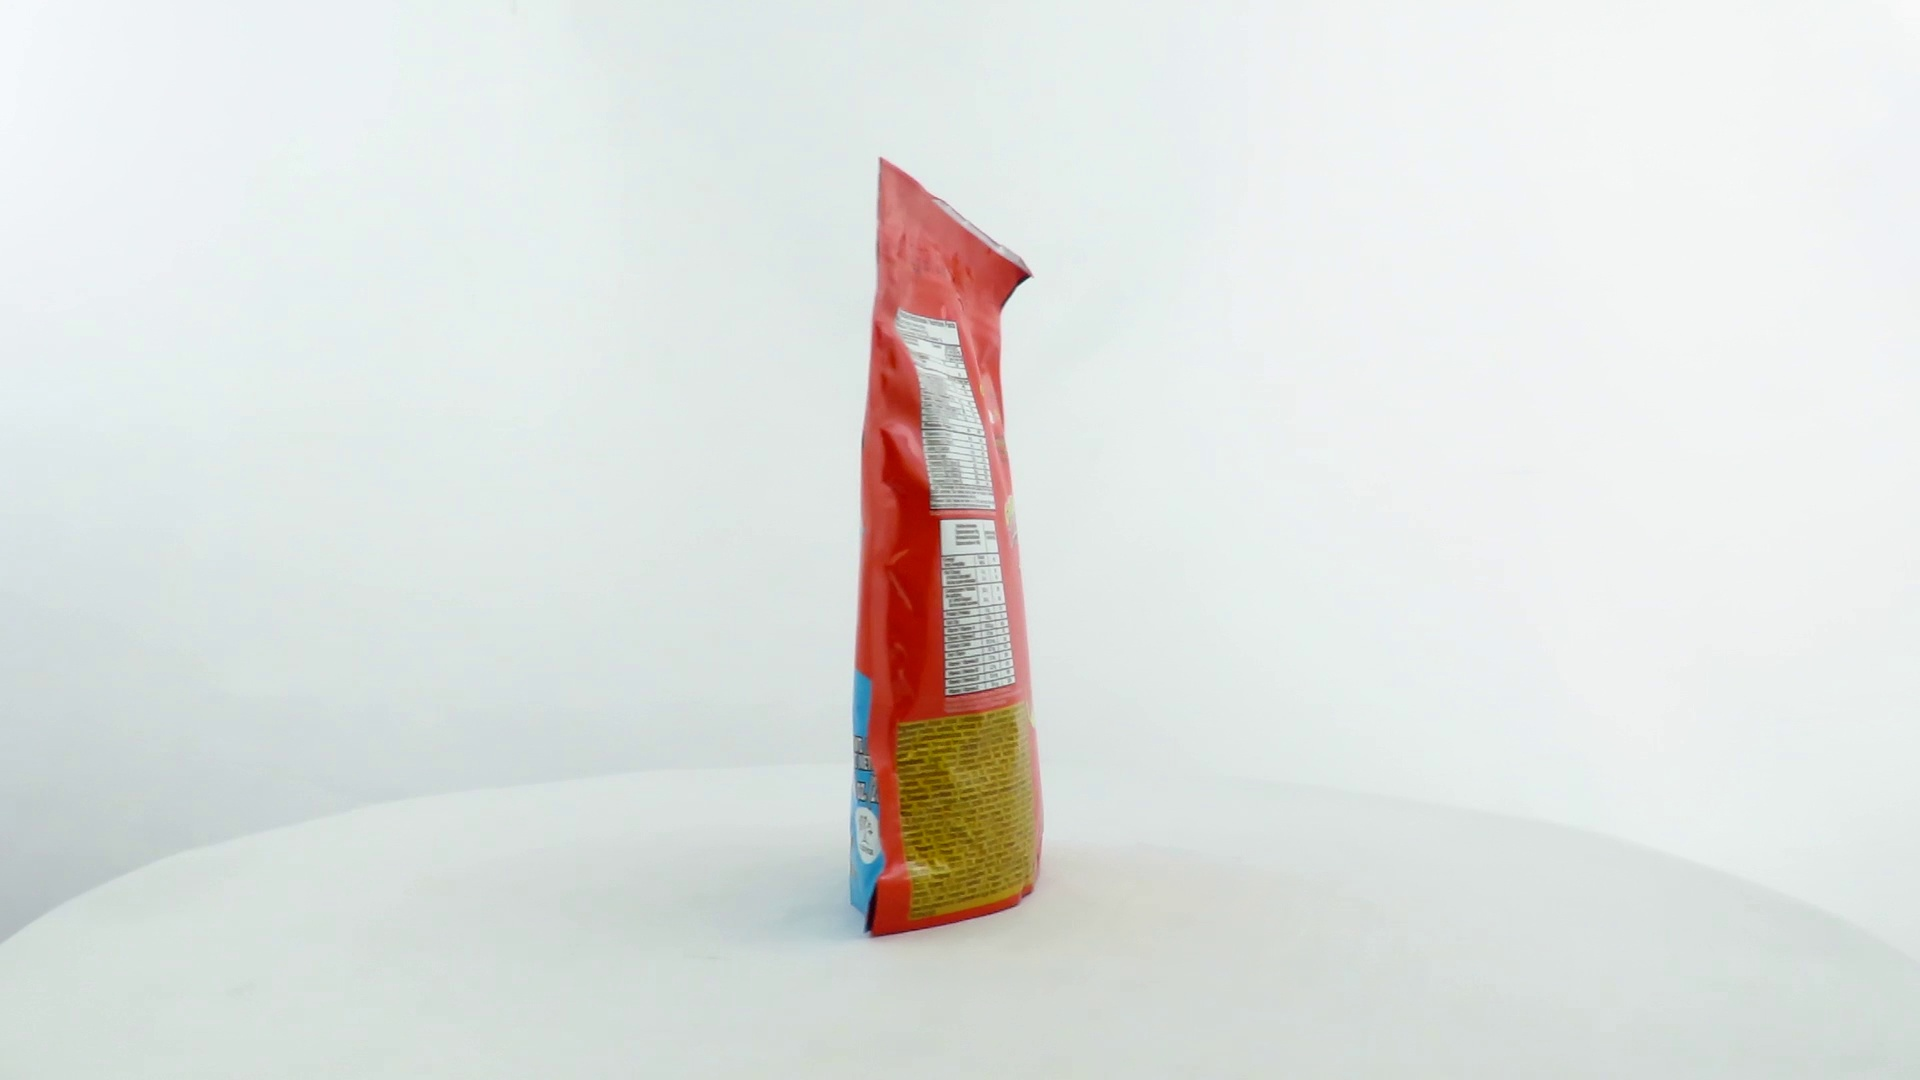COL0170104DYP20000: (819, 152, 1050, 953)
